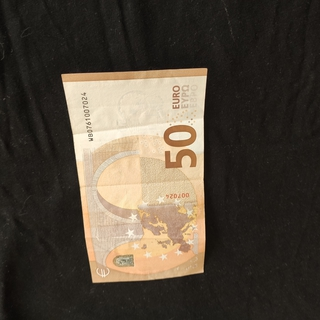50EUROBack: (59, 66, 208, 284)
